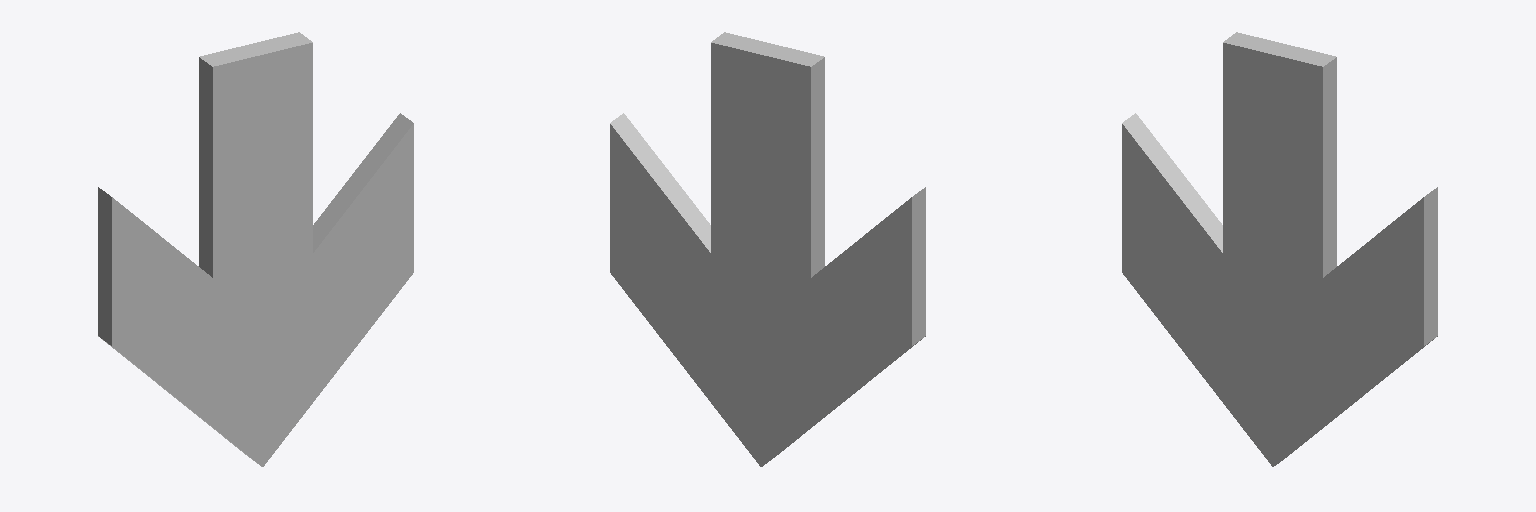
File: arrow.obj
3 renders of one model, left to right at view 1: azimuth 30°, elevation 25°; view 2: azimuth 150°, elevation 25°; view 3: azimuth 330°, elevation 25°, orthographic.
Size of the model in its own units: 12.57 by 16.42 by 1.01.